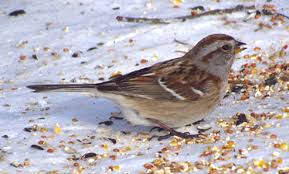home_sparrow: (23, 27, 254, 134)
